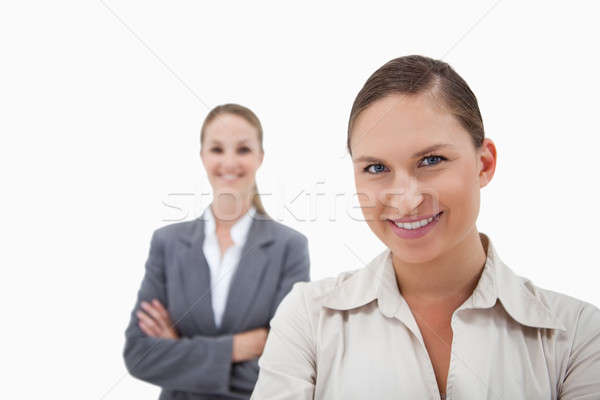person: (321, 43, 533, 332), (166, 101, 323, 298)
